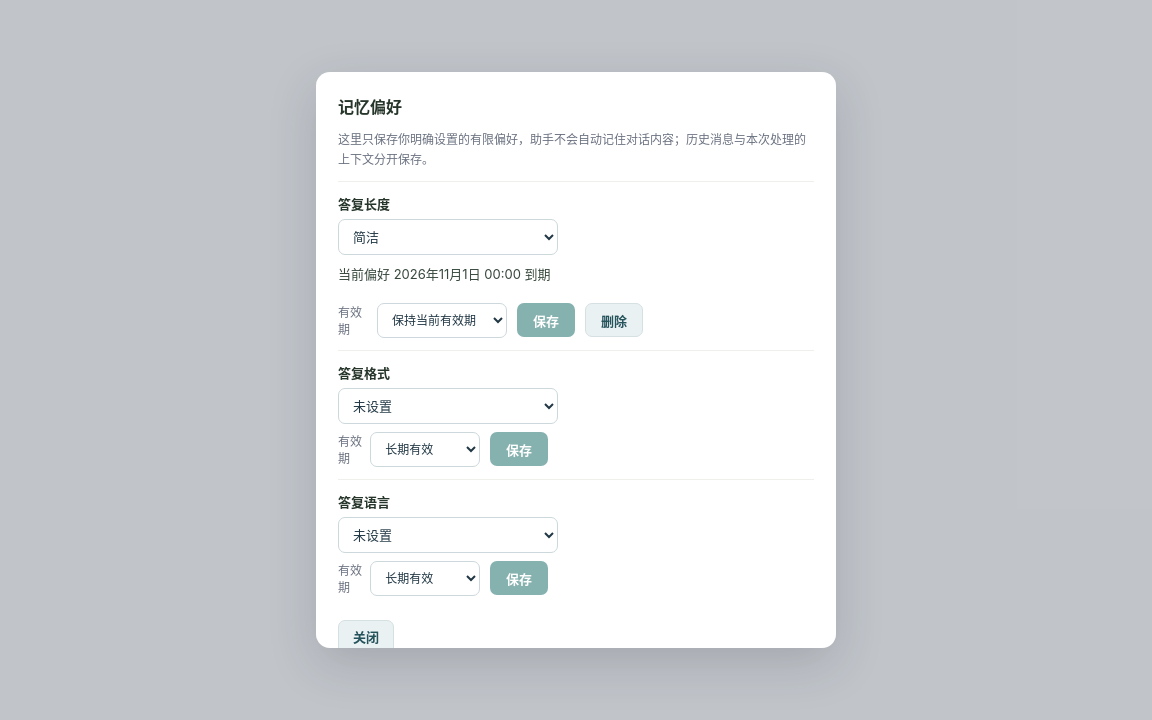
Test case: a revision conflict is reported in Chinese without losing the dialog
Select "详细" in the dropdown with test id "pref-answer_length". click: (448,237)
box: 338,219 -> 558,255
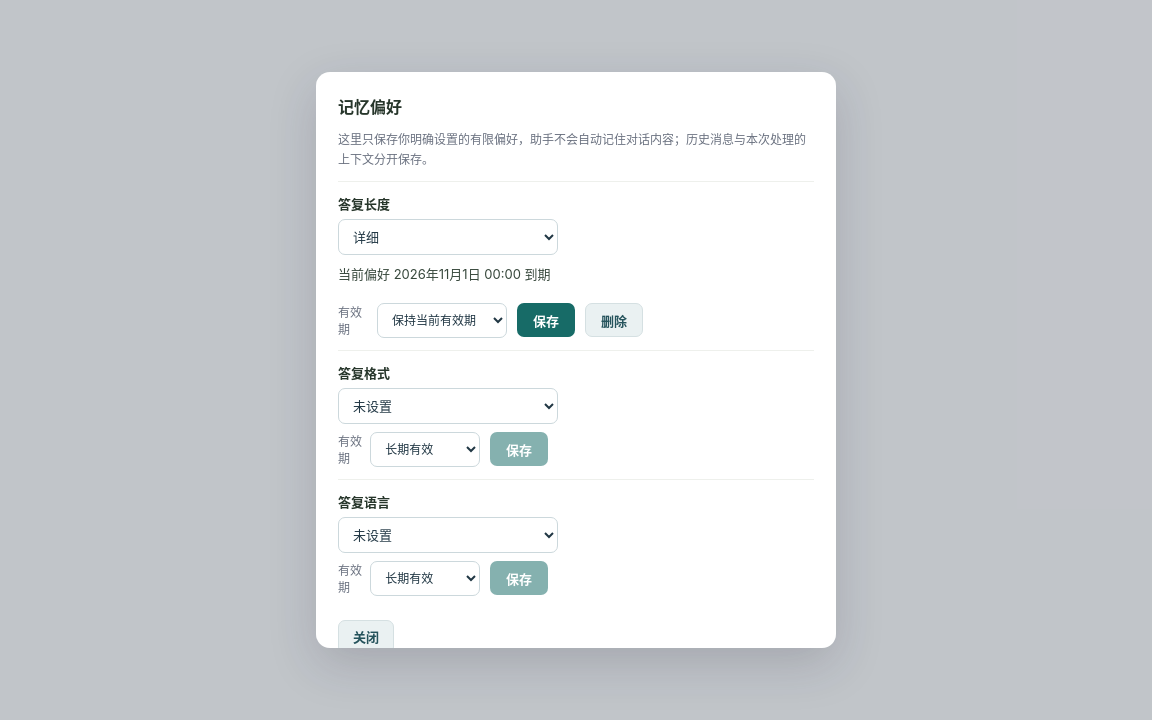
Click the button with test id "save-answer_length". click: (546,320)
box: 517,303 -> 575,337
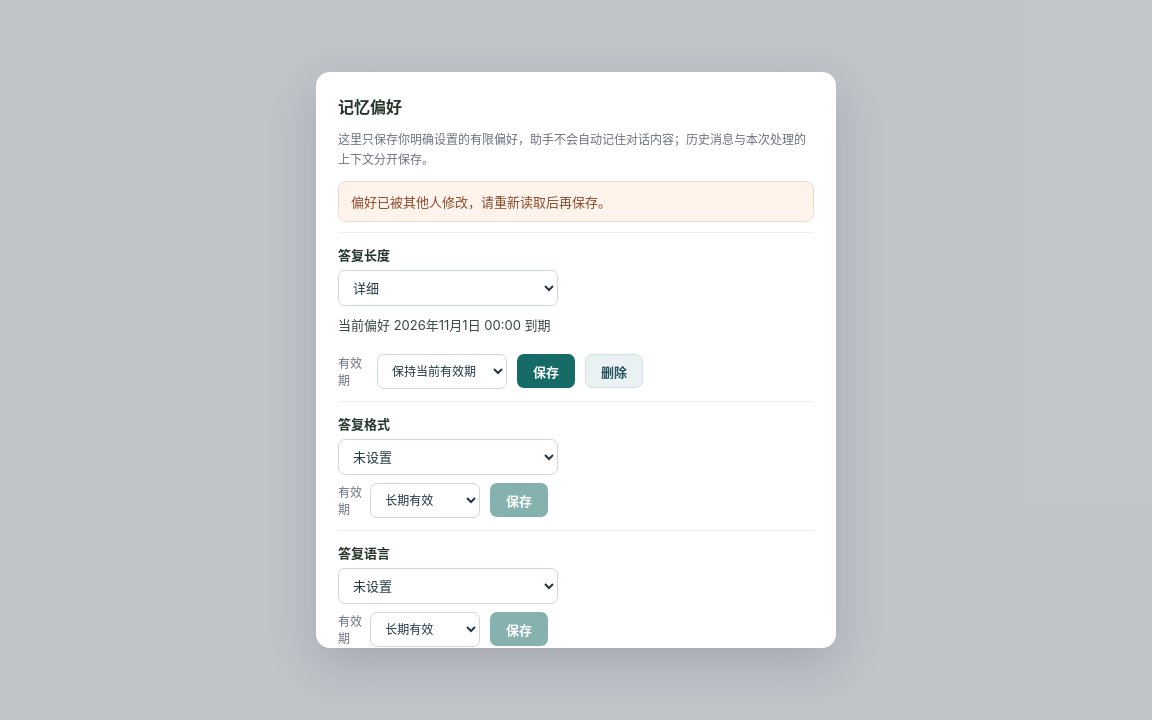
Now the text "偏好已被其他人修改" is shown, box 351,194 -> 611,210
